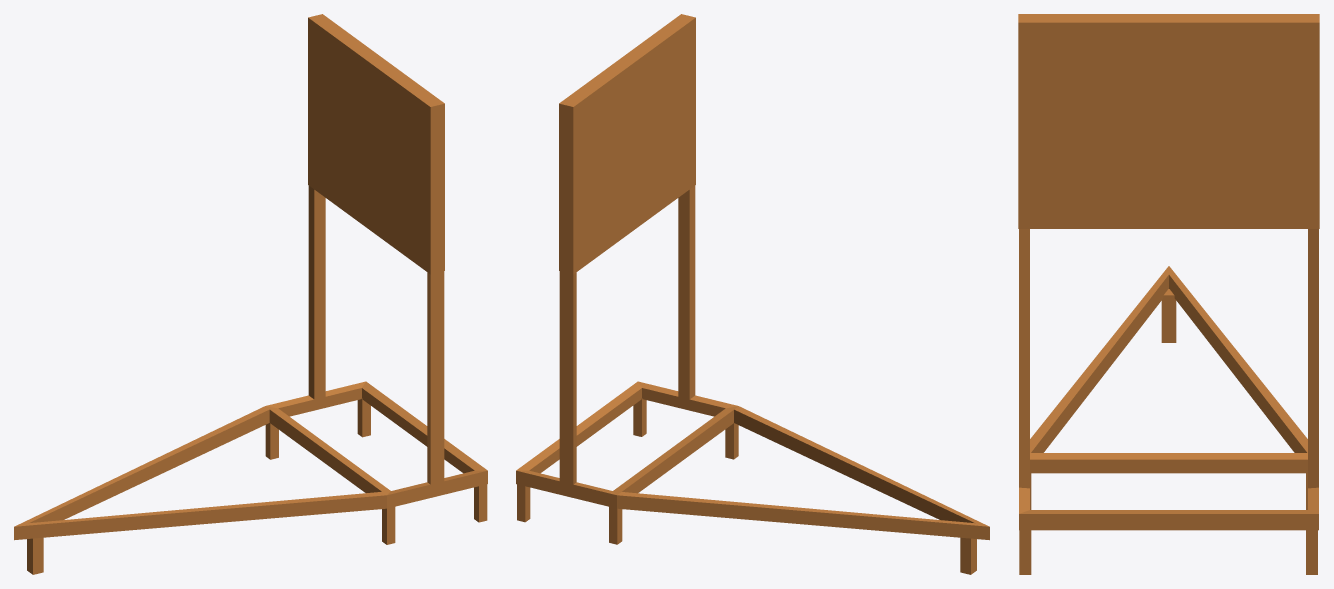
Rendered from LEDsign.fbx.
3 renders of one model, left to right at view 1: azimuth 30°, elevation 25°; view 2: azimuth 150°, elevation 25°; view 3: azimuth 270°, elevation 25°, orthographic. The views are drawn at different scales.
Visible parts, largest first — view 1: Cube; view 2: Cube; view 3: Cube.
Part boxes in pixels (<box>): Cube: <box>14,14,487,574</box>; Cube: <box>516,14,989,574</box>; Cube: <box>1018,14,1319,574</box>.
Bounding box in the file's own units: 515 × 510 × 264.
